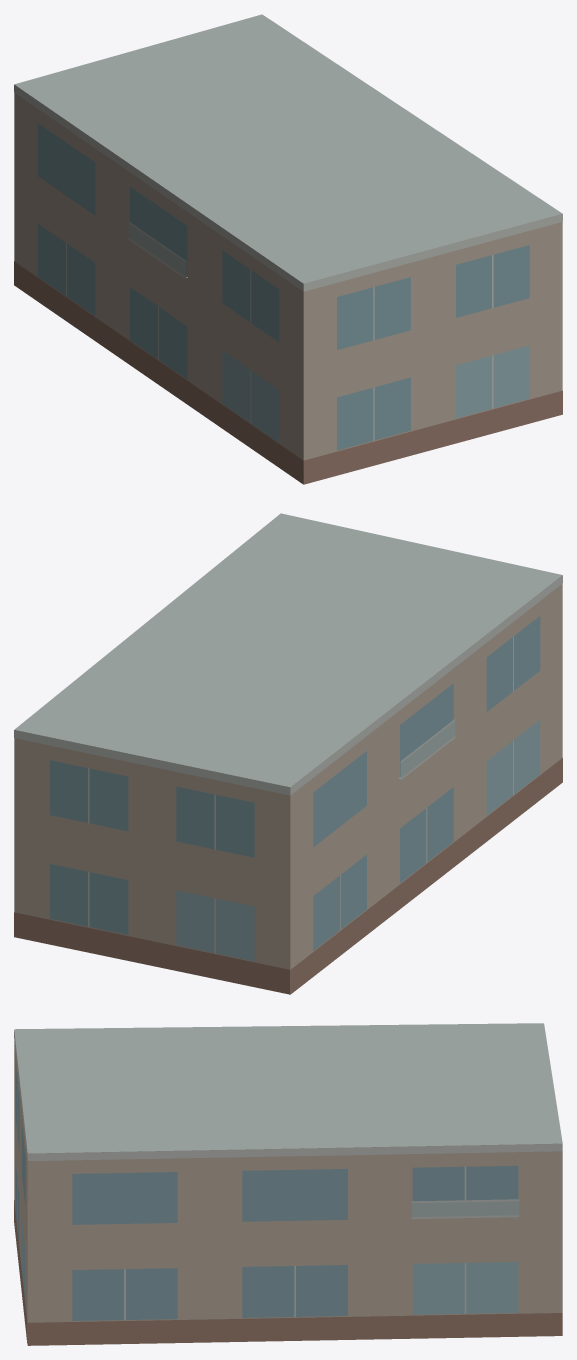
Rendered from survey-upis-32607853.glb.
3 views of the same model, one above another, from view 1: azimuth 30°, elevation 25°; view 2: azimuth 150°, elevation 25°; view 3: azimuth 270°, elevation 25° (orthographic). The views are drawn at different scales.
Parts seen in each view (by area): view 1: survey-upis-32607853.tmp; view 2: survey-upis-32607853.tmp; view 3: survey-upis-32607853.tmp.
Boxes of the visible parts, <box> form: survey-upis-32607853.tmp: <box>14,14,562,484</box>; survey-upis-32607853.tmp: <box>14,513,562,994</box>; survey-upis-32607853.tmp: <box>14,1023,562,1345</box>.
Bounding box in the file's own units: 8.88 × 6.1 × 15.78.
